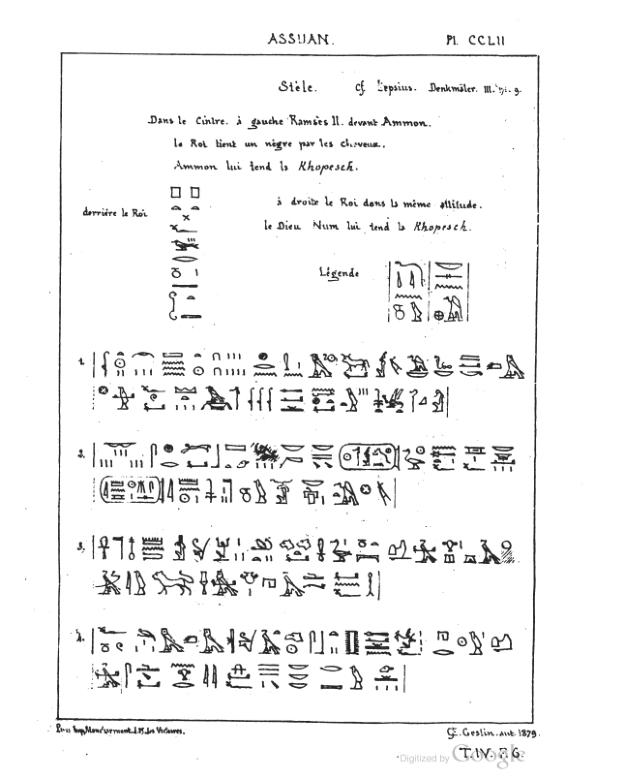circle: (100, 472, 167, 510), (335, 439, 402, 476)
